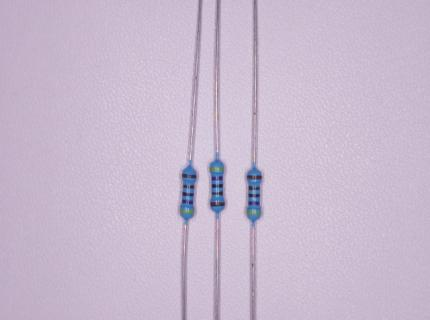Black band: (248, 194, 260, 198), (212, 184, 223, 188), (182, 193, 194, 196)
Brown band: (247, 175, 261, 180), (182, 174, 197, 178), (211, 202, 224, 206), (248, 187, 260, 191), (183, 184, 194, 188), (212, 191, 223, 195)
Violet band: (182, 200, 193, 205), (212, 177, 223, 181), (249, 201, 260, 205)
Yellow band: (210, 167, 225, 171), (180, 210, 194, 214), (248, 211, 261, 215)
